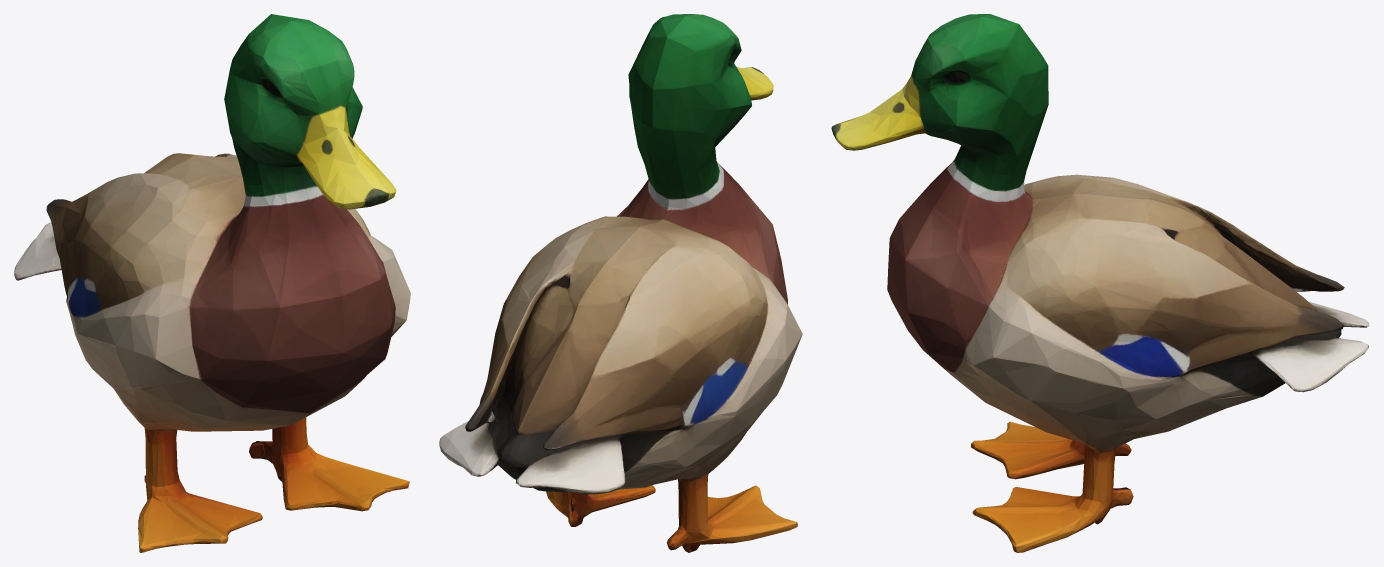
File: duck.glb
3 views of the same model, side by side, from view 1: azimuth 30°, elevation 25°; view 2: azimuth 150°, elevation 25°; view 3: azimuth 270°, elevation 25° (orthographic). The views are drawn at different scales.
Parts seen in each view (by area): view 1: world; view 2: world; view 3: world.
Part boxes in pixels (bbox=[...]): world: bbox=[14, 14, 410, 552]; world: bbox=[439, 14, 802, 552]; world: bbox=[831, 14, 1369, 552].
Size of the model in its own units: 0.5515 by 0.9819 by 0.9968.
1 material, 1 textured.
